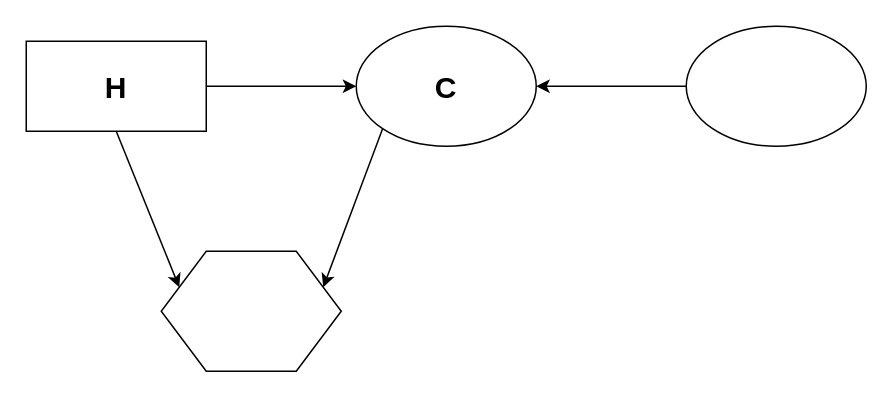
The diagram is 893 pixels wide and 398 high, and some of its shapes have lost their labels. The centre of each missing label's shape, as x and y in pixels:
"H 0" goes at (775,85).
"U H" goes at (250,310).
